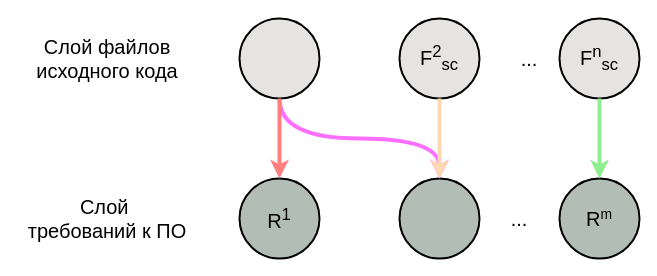
Some shapes in this 657 by 276 pixel diagram are drawn without their labels. Each missing label, with the centre of its shape:
"F 1,3 sc" goes at point 279,58.
"R 2" goes at point 439,218.
